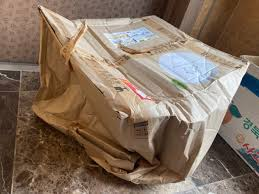damaged package: (29, 12, 79, 128), (126, 115, 183, 183), (80, 128, 136, 170), (122, 39, 178, 57)
